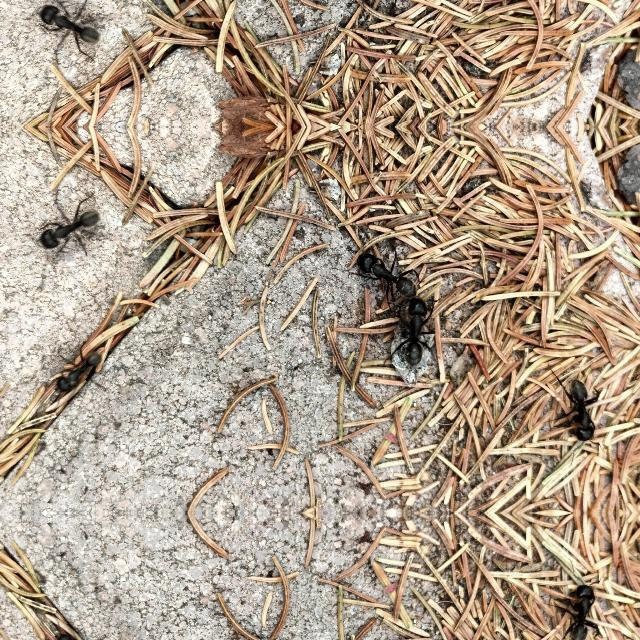Camponotus: (376, 291, 452, 373), (546, 369, 620, 451), (544, 574, 620, 640), (24, 202, 112, 258), (344, 247, 432, 300), (40, 342, 118, 398), (24, 0, 112, 48), (40, 626, 118, 640)
